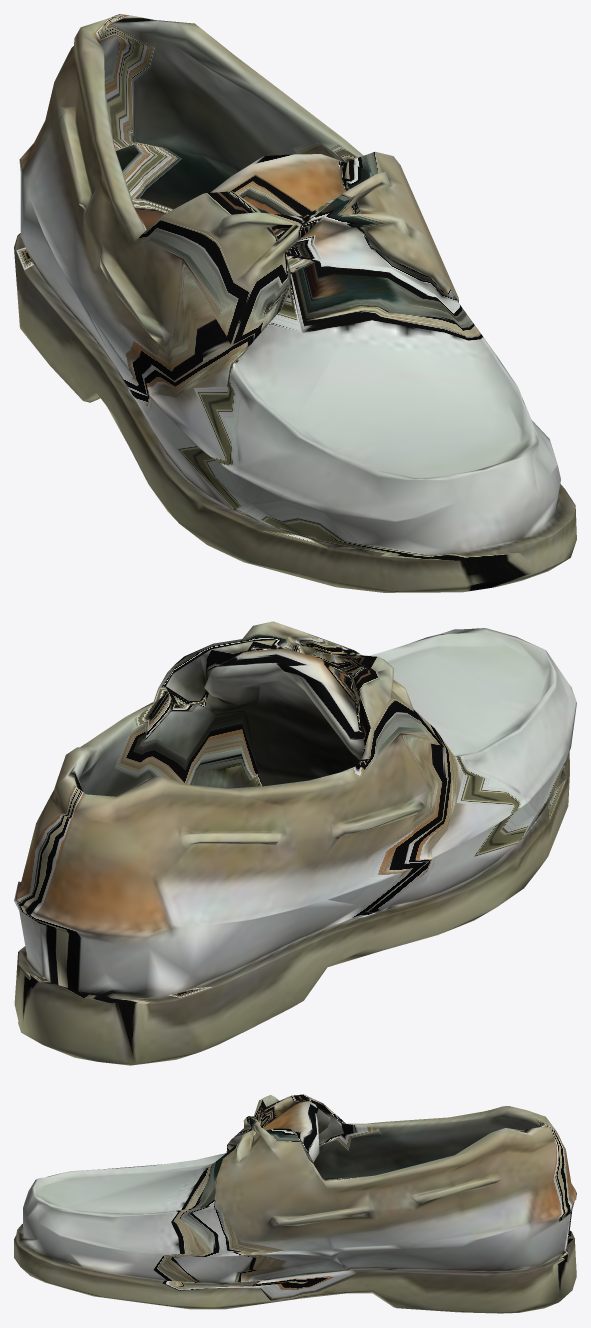
The model's file is gso_mens_mako_canoe_moc_2eye_boat_shoe_in_oystertaupe_otyrrfvpmia.glb.
The picture shows the model from 3 angles, top to bottom: view 1: azimuth 30°, elevation 25°; view 2: azimuth 150°, elevation 25°; view 3: azimuth 270°, elevation 25°; orthographic projection. The views are drawn at different scales.
Visible parts, largest first — view 1: z-up-to-y-up; view 2: z-up-to-y-up; view 3: z-up-to-y-up.
Boxes of the visible parts, x1,y1,x2,y2 form: z-up-to-y-up: [14, 14, 576, 592]; z-up-to-y-up: [14, 621, 576, 1065]; z-up-to-y-up: [14, 1094, 576, 1313].
Size of the model in its own units: 0.1074 by 0.0975 by 0.2871.
1 material, 1 textured.
